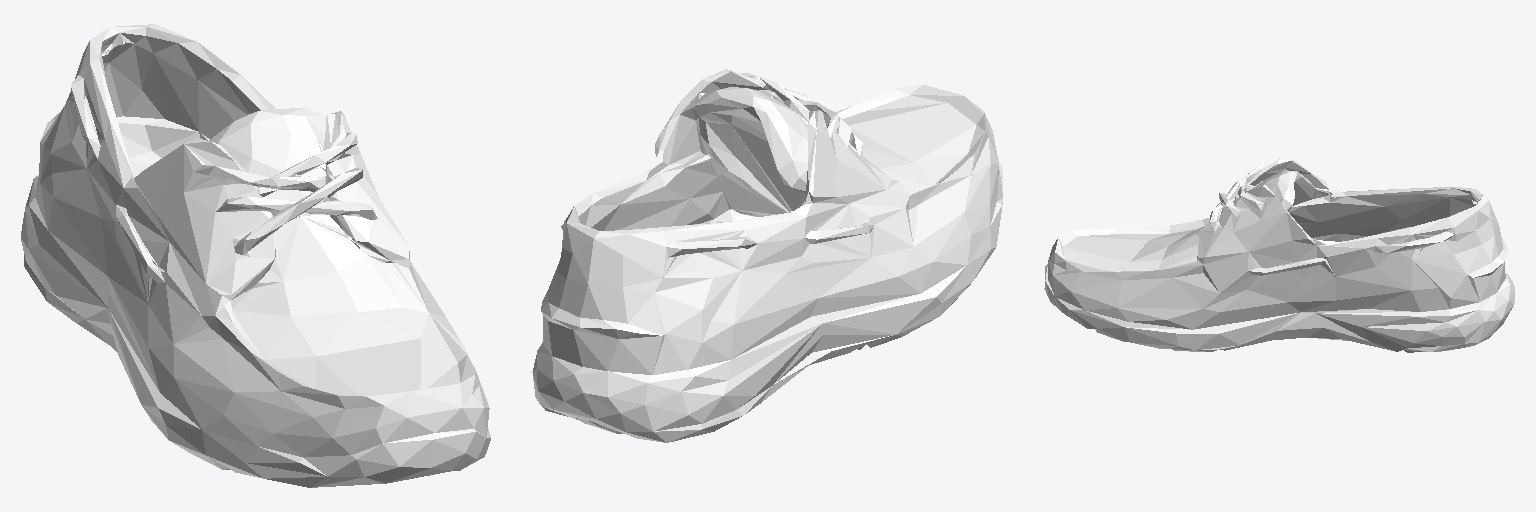
The robot description file, URDF, robot "MensASVBillfishBoatShoeinDarkBrownLeather":
<robot name="MensASVBillfishBoatShoeinDarkBrownLeather">
    <link name="base_link">
        <contact>
            <lateral_friction value="1.0" />
        </contact>
        <inertial>
            <origin xyz="-0.0 0.0 0.054" />
            <mass value="1.5303700832470537" />
            <inertia ixx="1" ixy="0" ixz="0" iyy="1" iyz="0" izz="1" />
        </inertial>
        <visual>
            <origin xyz="0 0 0" />
            <geometry>
                <mesh filename="model_NrwvyDPIlTf.obj" />
            </geometry>
            <material name="MensASVBillfishBoatShoeinDarkBrownLeather">
                <color rgba="1 1 1 1" />
            </material>
        </visual>
        <collision>
            <origin xyz="0 0 0" />
            <geometry>
                <mesh filename="model_NrwvyDPIlTf_vhacd.obj" />
            </geometry>
        </collision>
    </link>
</robot>

--- Facts derived from the render (not from the file) ---
The picture shows the robot from 3 angles, left to right: view 1: azimuth 30°, elevation 25°; view 2: azimuth 150°, elevation 25°; view 3: azimuth 270°, elevation 25°; orthographic projection.
Robot: MensASVBillfishBoatShoeinDarkBrownLeather — 1 links, 0 joints (none); root link base_link; default pose: every joint at zero.
Links seen in each view (by area): view 1: base_link; view 2: base_link; view 3: base_link.
Boxes of the visible links, left/top/right/bottom form: base_link: left=21, top=24, right=490, bottom=487; base_link: left=532, top=69, right=1002, bottom=442; base_link: left=1044, top=159, right=1514, bottom=352.
Bounding box of the posed robot: 0.1101 × 0.2929 × 0.1089 m (x, y, z).
Meshes: 1 distinct files referenced, 1 mesh visuals loaded (1 OBJ).
